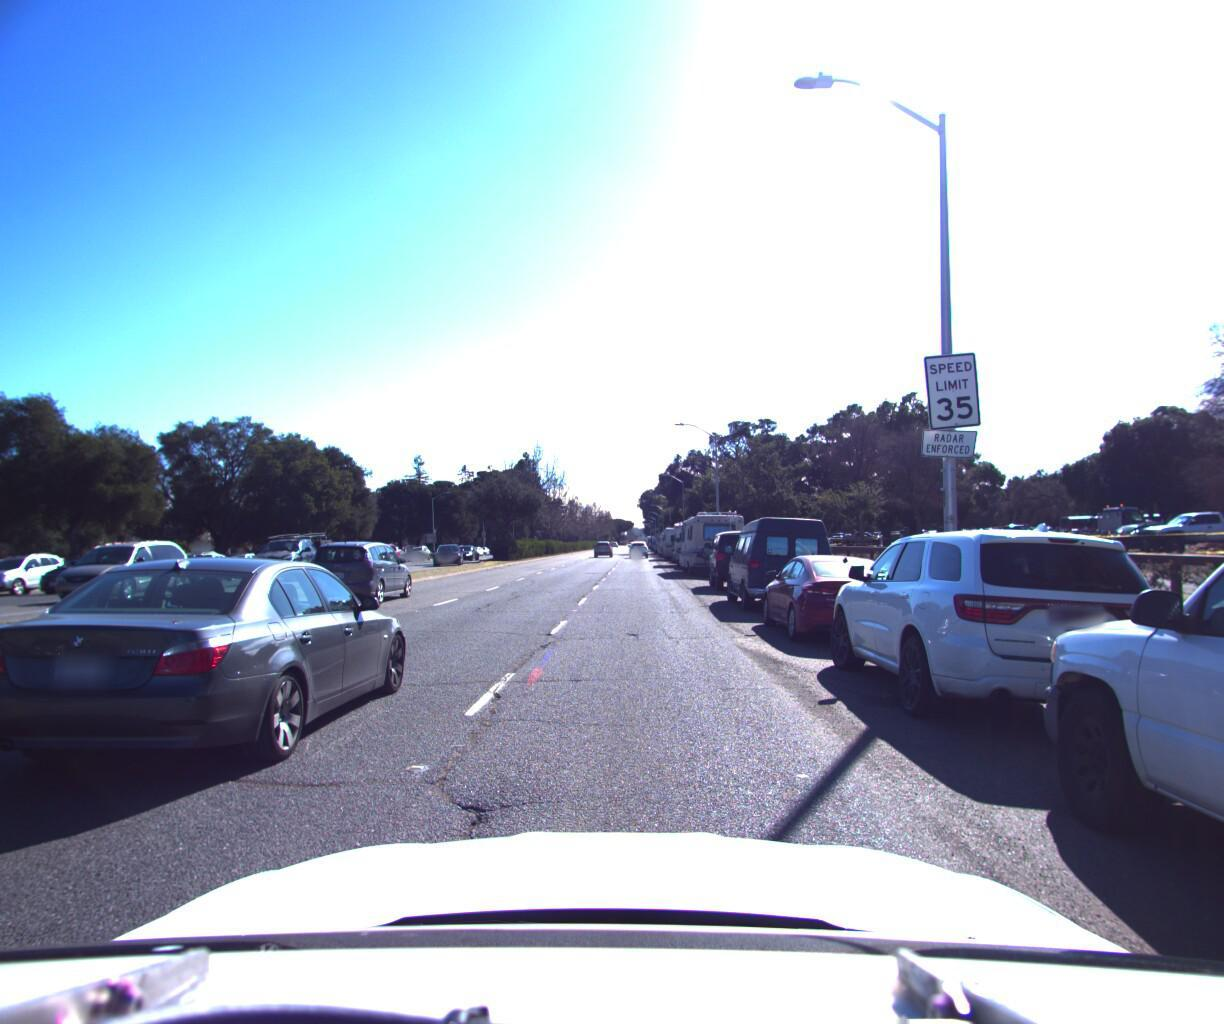car: (967, 0, 1224, 1024), (0, 548, 426, 800), (801, 514, 1224, 761), (749, 545, 934, 652), (713, 506, 845, 617), (44, 535, 200, 603), (298, 527, 419, 606), (697, 522, 786, 590), (30, 549, 149, 593), (239, 527, 335, 580), (0, 547, 81, 596), (160, 548, 244, 580), (427, 531, 466, 561), (592, 535, 615, 552), (628, 536, 648, 553)
other_vehicle: (670, 503, 750, 573), (668, 510, 716, 565), (658, 517, 694, 555)
